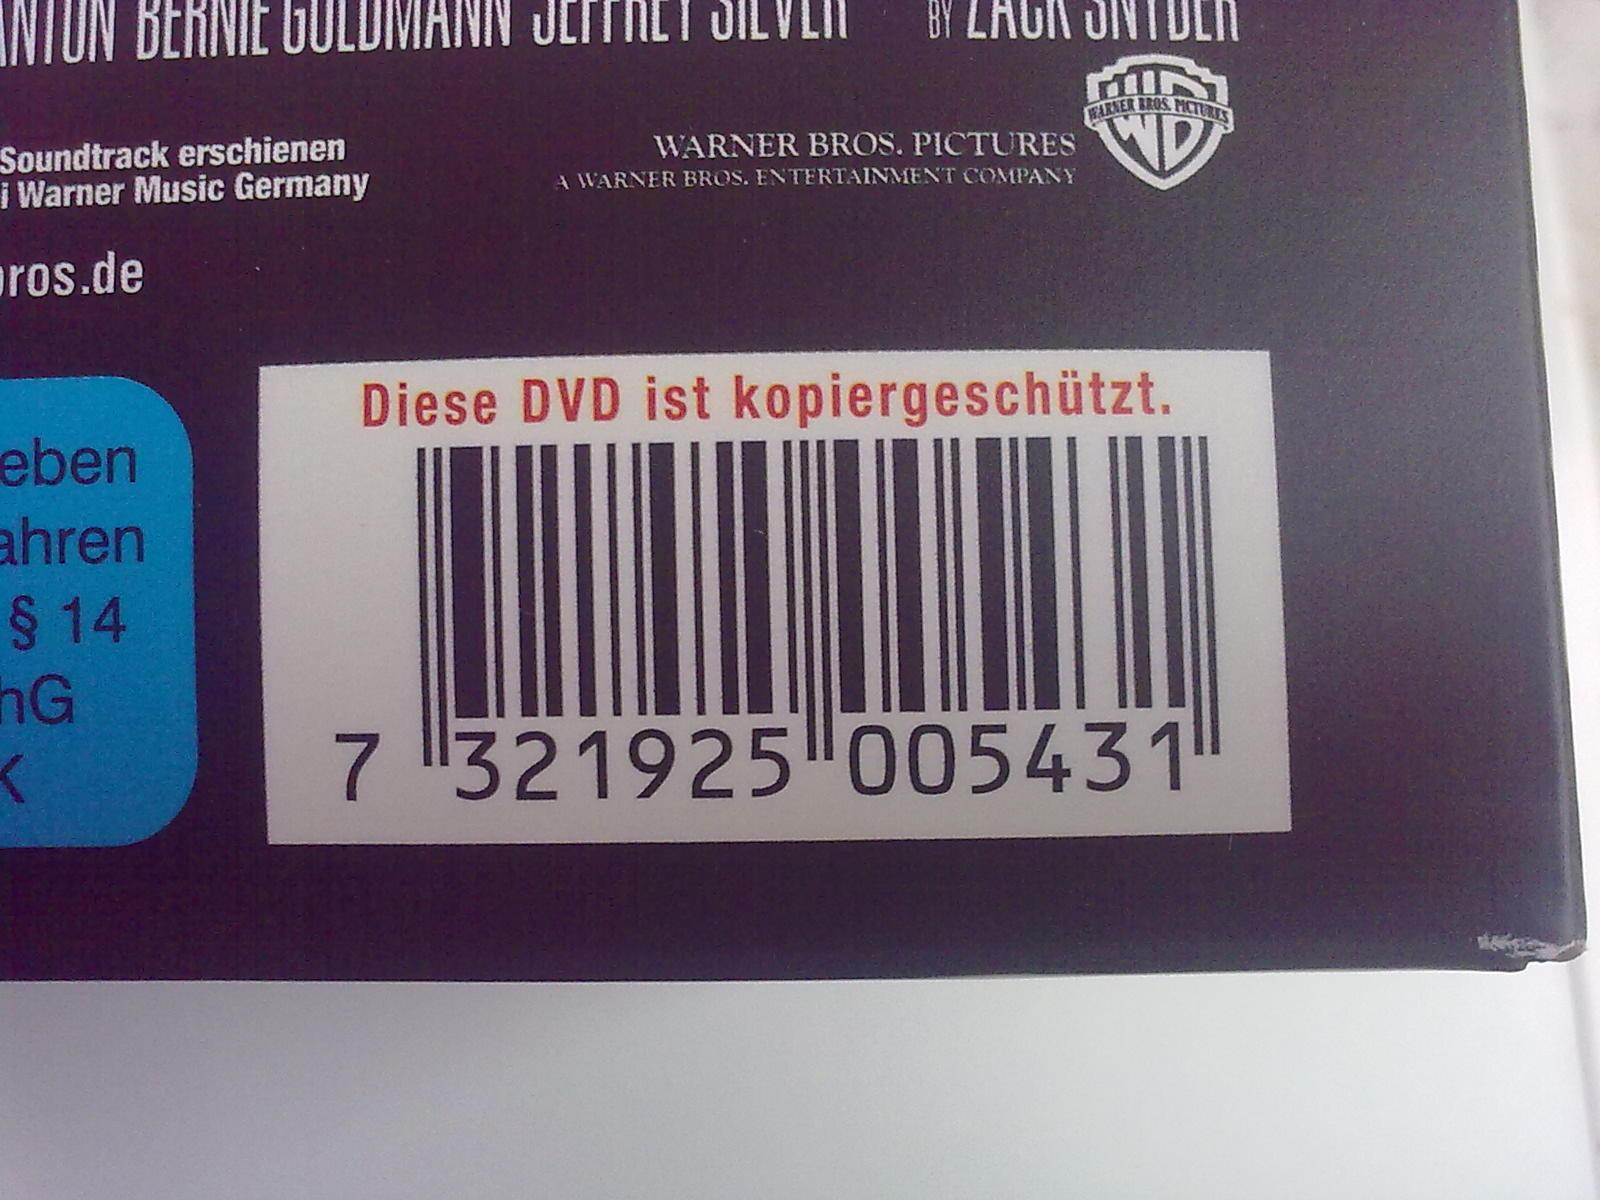barcode: (262, 348, 1293, 846)
